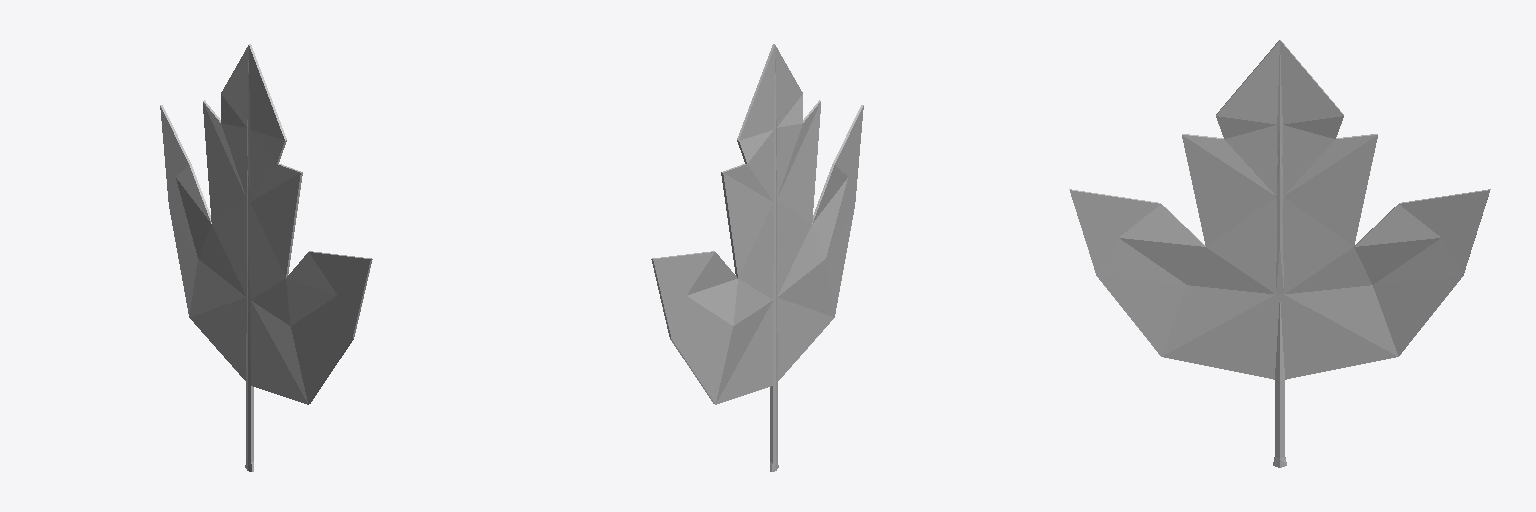
Rendered from Leaf_02.obj.
3 views of the same model, side by side, from view 1: azimuth 30°, elevation 25°; view 2: azimuth 150°, elevation 25°; view 3: azimuth 270°, elevation 25° (orthographic).
Parts seen in each view (by area): view 1: Leaf_04:leaf_Plane_007; view 2: Leaf_04:leaf_Plane_007; view 3: Leaf_04:leaf_Plane_007.
Boxes of the visible parts, <box> form: Leaf_04:leaf_Plane_007: <box>160,44,372,471</box>; Leaf_04:leaf_Plane_007: <box>651,44,863,471</box>; Leaf_04:leaf_Plane_007: <box>1069,40,1490,467</box>.
Bounding box in the file's own units: 0.0623 × 1.09 × 0.9798.